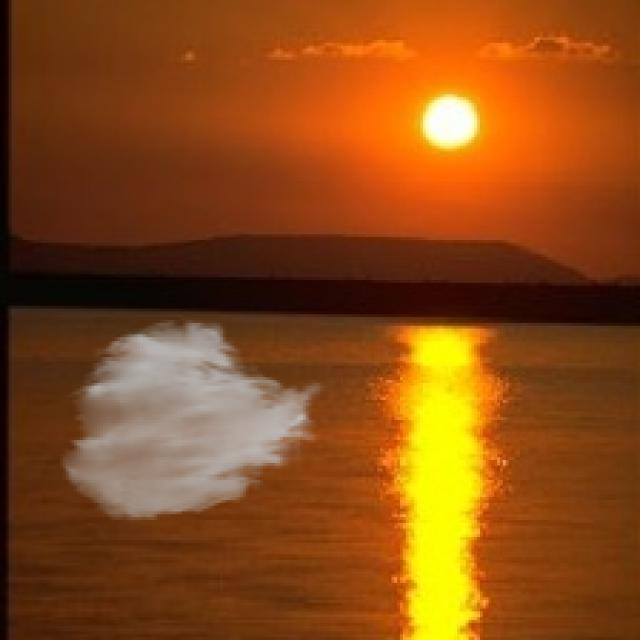smoke: (57, 317, 329, 523)
